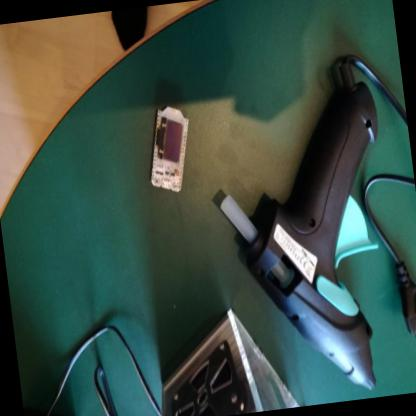Heltec_ESP32_Lora: (140, 103, 201, 199)
